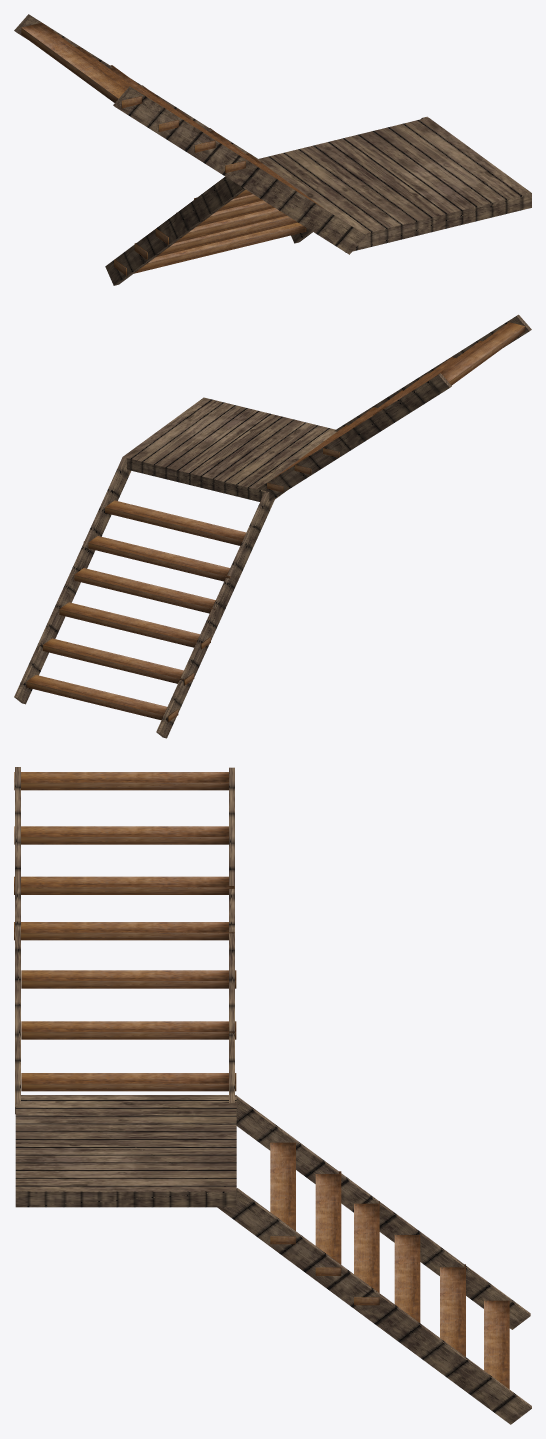
Rendered from L-shaped stairs.gltf.
3 renders of one model, top to bottom at view 1: azimuth 30°, elevation 25°; view 2: azimuth 150°, elevation 25°; view 3: azimuth 270°, elevation 25°, orthographic. The views are drawn at different scales.
Parts seen in each view (by area): view 1: Küp (×14); view 2: Küp (×12); view 3: Küp (×18).
Part boxes in pixels (box(x1,y1,x2,y2)): Küp (×14): box(14, 14, 531, 285); Küp (×12): box(14, 314, 531, 738); Küp (×18): box(14, 767, 531, 1424).
Size of the model in its own units: 2.05 by 1.98 by 2.07.
Materials: 18 (18 with a texture image).
